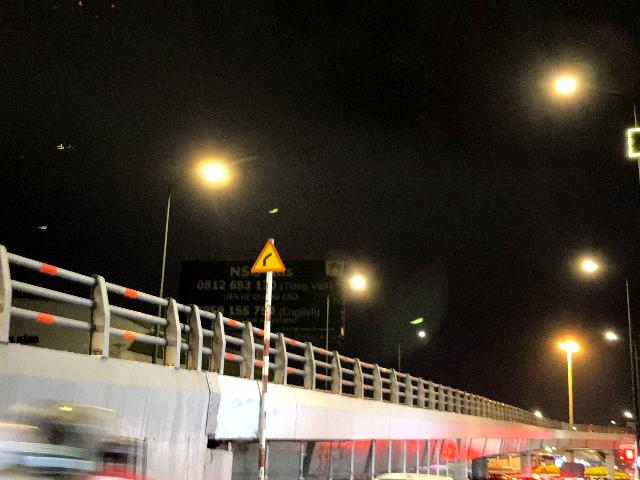cho-ngoat-nguy-hiem-ben-phai: (251, 238, 287, 272)
